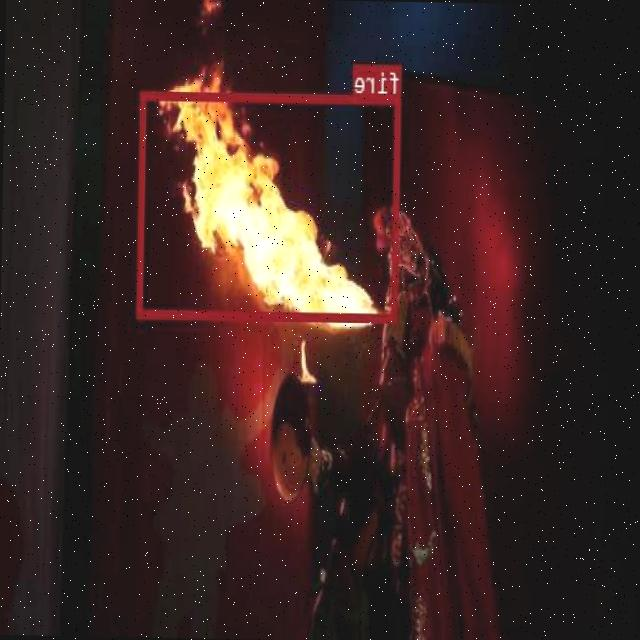fire: (137, 90, 401, 320)
